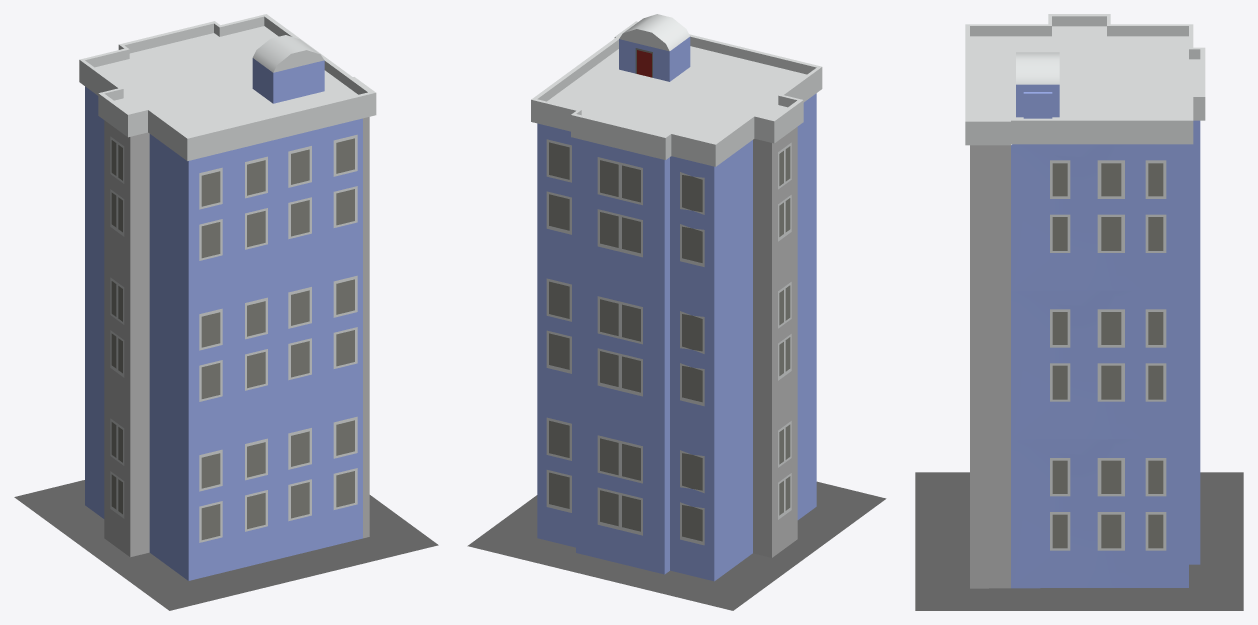
Rendered from Building_3.fbx.
3 views of the same model, side by side, from view 1: azimuth 30°, elevation 25°; view 2: azimuth 150°, elevation 25°; view 3: azimuth 270°, elevation 25° (orthographic). The views are drawn at different scales.
Parts seen in each view (by area): view 1: Building_3; view 2: Building_3; view 3: Building_3.
Part boxes in pixels (<box>): Building_3: <box>14,14,438,610</box>; Building_3: <box>467,14,886,610</box>; Building_3: <box>915,14,1243,610</box>.
Bounding box in the file's own units: 1 × 1.71 × 1.
1 material, 1 textured.
